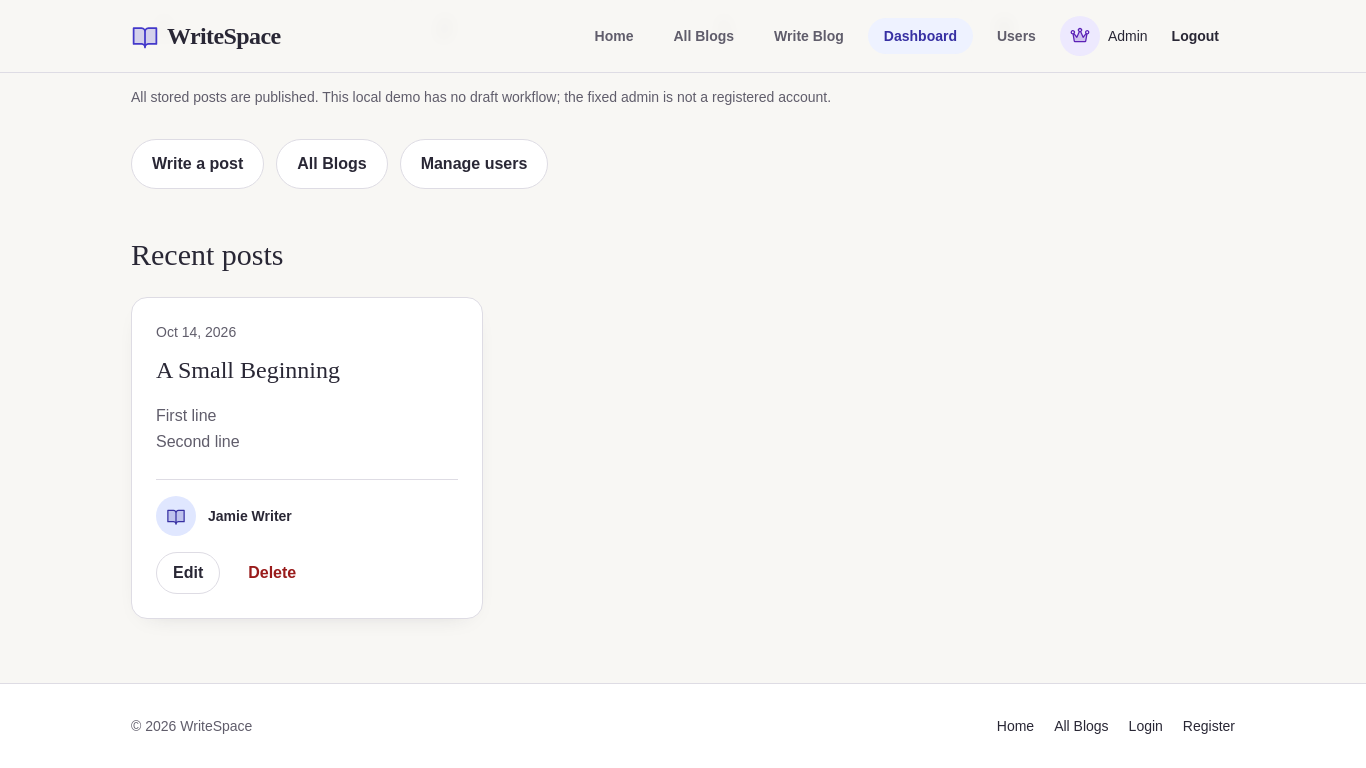
dashboard deletion and admin boundaries via App › empties affected previews on sustained fresh posts read failure without changing raw data
(page scrolled)
Click the button "Delete" at {"x": 272, "y": 573}, box [232,552,312,594]
(page scrolled)
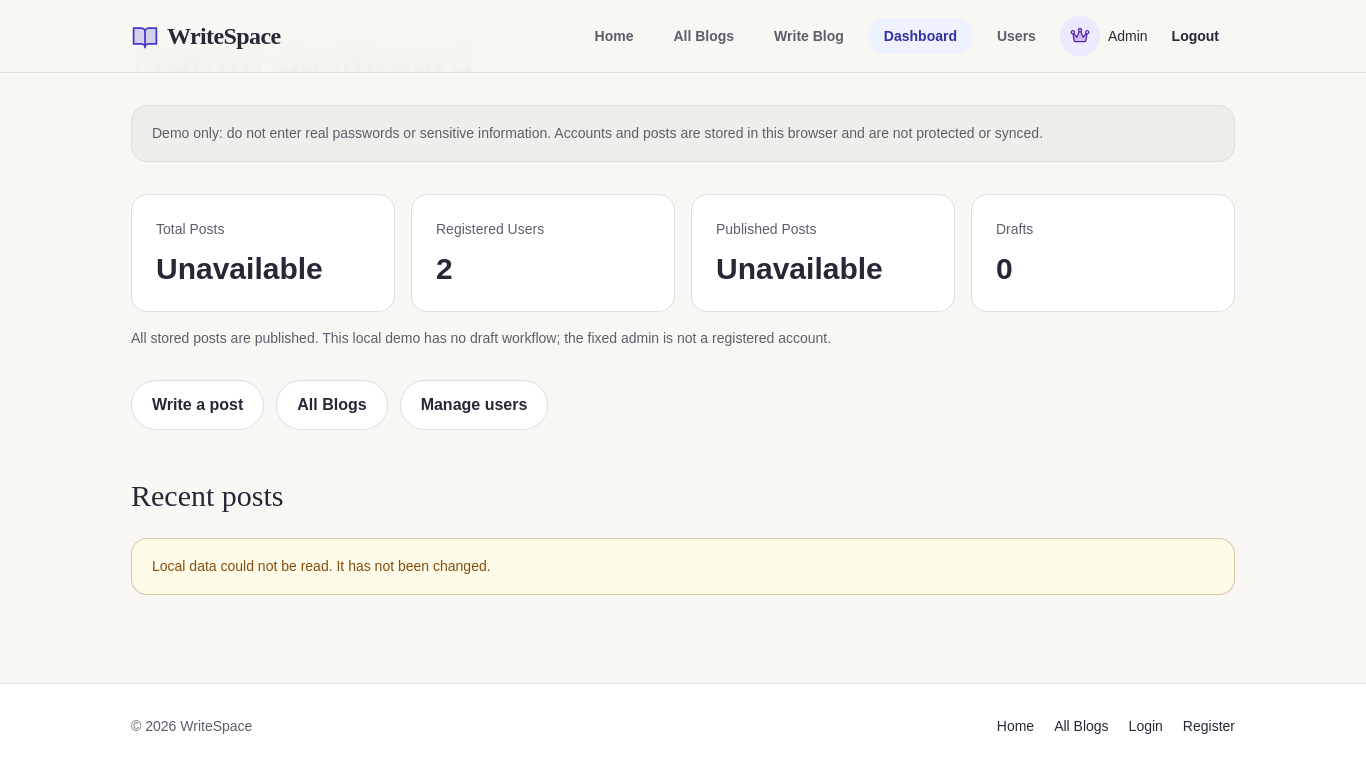
Result: the text "Unavailable" below "Published Posts" is shown at [716,252,883,285]
Result: the text "Local data could not be read. It has not been changed." is shown at [131,538,1235,595]
Result: the button "Delete" is gone
